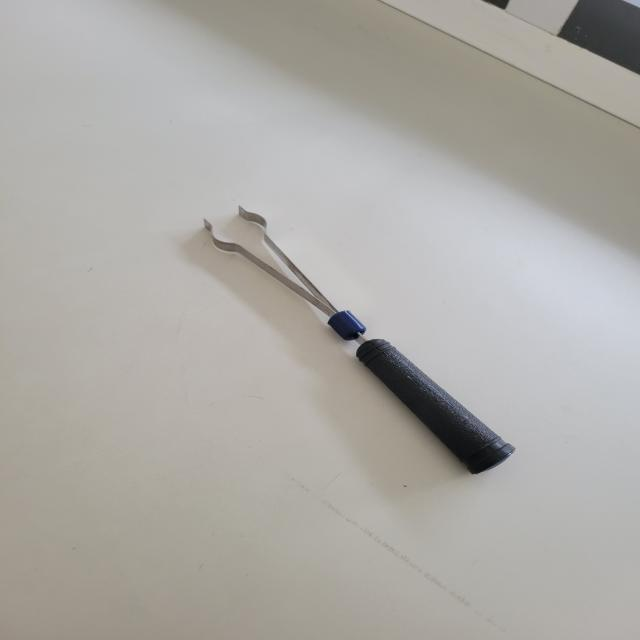TestTube_Holder: (180, 178, 534, 494)
